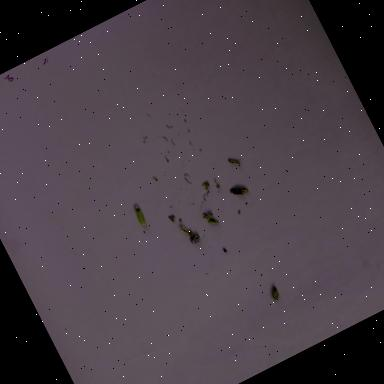pbw: (132, 204, 148, 228), (228, 154, 244, 168), (236, 184, 249, 196), (208, 216, 220, 228), (205, 212, 216, 222)
